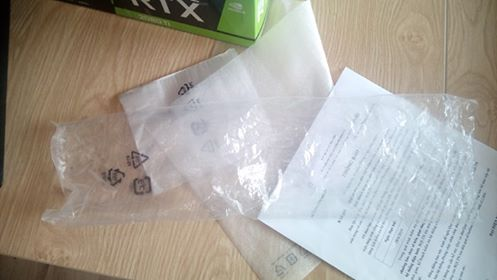plastic bag: (39, 93, 485, 226)
